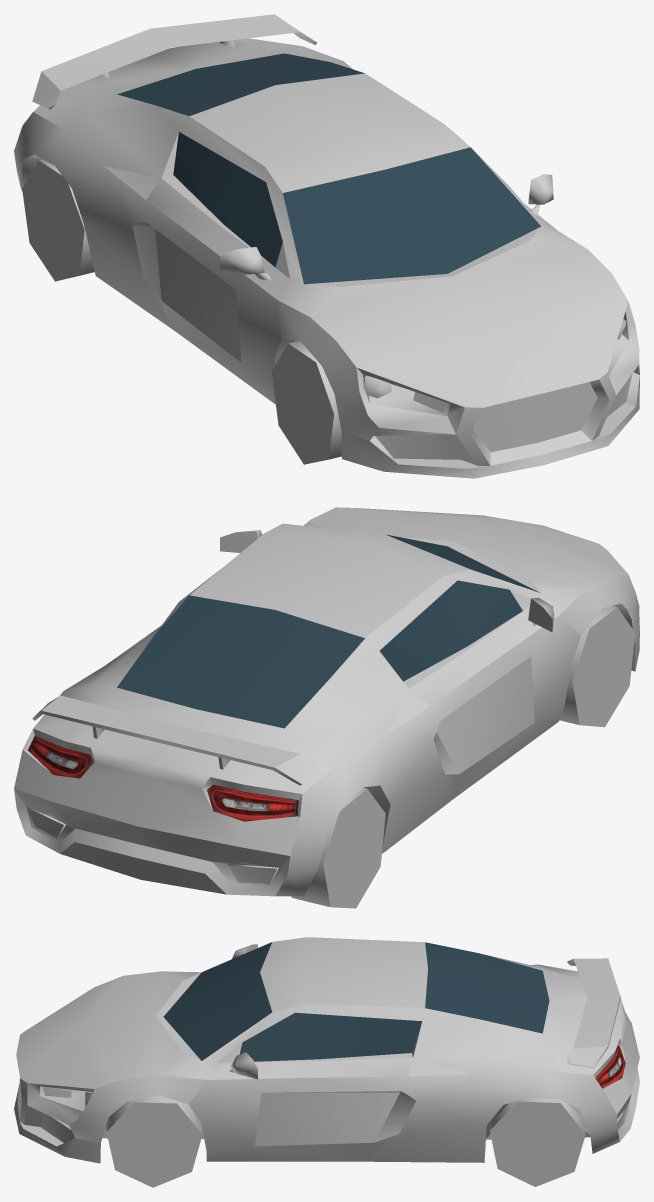
The model's file is Car_1_LOD2.FBX.
The picture shows the model from 3 angles, top to bottom: view 1: azimuth 30°, elevation 25°; view 2: azimuth 150°, elevation 25°; view 3: azimuth 270°, elevation 25°; orthographic projection. The views are drawn at different scales.
Visible parts, largest first — view 1: Body_1_LOD2, Glass_1_LOD2, Matte_1_LOD2, Wheel_R_LOD2, Wheel_Back_LOD2; view 2: Body_1_LOD2, Glass_1_LOD2, Matte_1_LOD2, Wheel_R_LOD2, Wheel_Back_LOD2, Taillights_1_LOD2; view 3: Body_1_LOD2, Glass_1_LOD2, Matte_1_LOD2, Wheel_L_LOD2, Wheel_Back_LOD2, Taillights_1_LOD2.
Boxes of the visible parts, box(x1,y1,x2,y2) form: Body_1_LOD2: box(14, 38, 639, 465); Glass_1_LOD2: box(117, 53, 540, 284); Matte_1_LOD2: box(20, 14, 639, 478); Wheel_R_LOD2: box(271, 341, 341, 464); Wheel_Back_LOD2: box(22, 159, 94, 281); Body_1_LOD2: box(14, 507, 639, 896); Glass_1_LOD2: box(117, 534, 539, 728); Matte_1_LOD2: box(26, 530, 639, 894); Wheel_R_LOD2: box(559, 606, 634, 727); Wheel_Back_LOD2: box(291, 788, 385, 908); Taillights_1_LOD2: box(28, 736, 298, 821); Body_1_LOD2: box(16, 937, 639, 1162); Glass_1_LOD2: box(163, 942, 549, 1061); Matte_1_LOD2: box(14, 944, 626, 1163); Wheel_L_LOD2: box(106, 1095, 202, 1187); Wheel_Back_LOD2: box(489, 1097, 585, 1186); Taillights_1_LOD2: box(595, 1045, 625, 1088).
Bounding box in the file's own units: 2.08 × 4.42 × 1.3.
